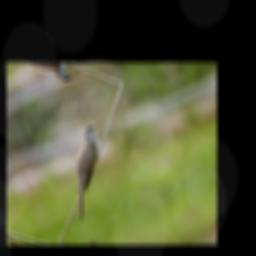Cuckoo: (45, 119, 136, 223)
